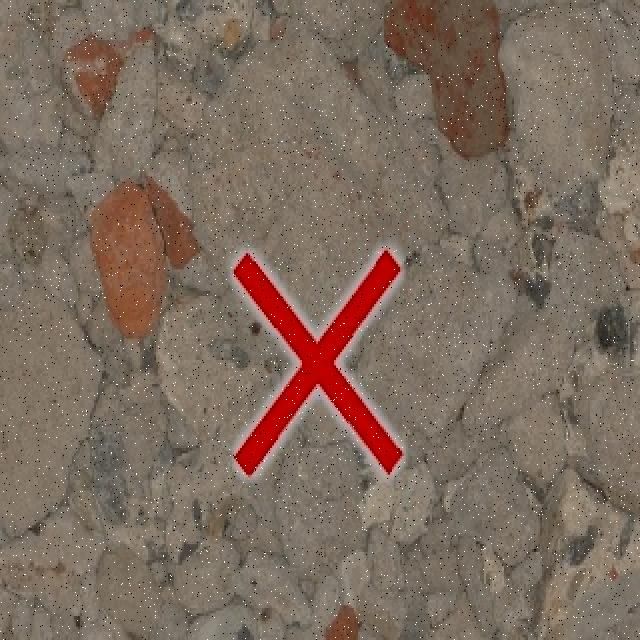x_marker: (233, 250, 401, 473)
